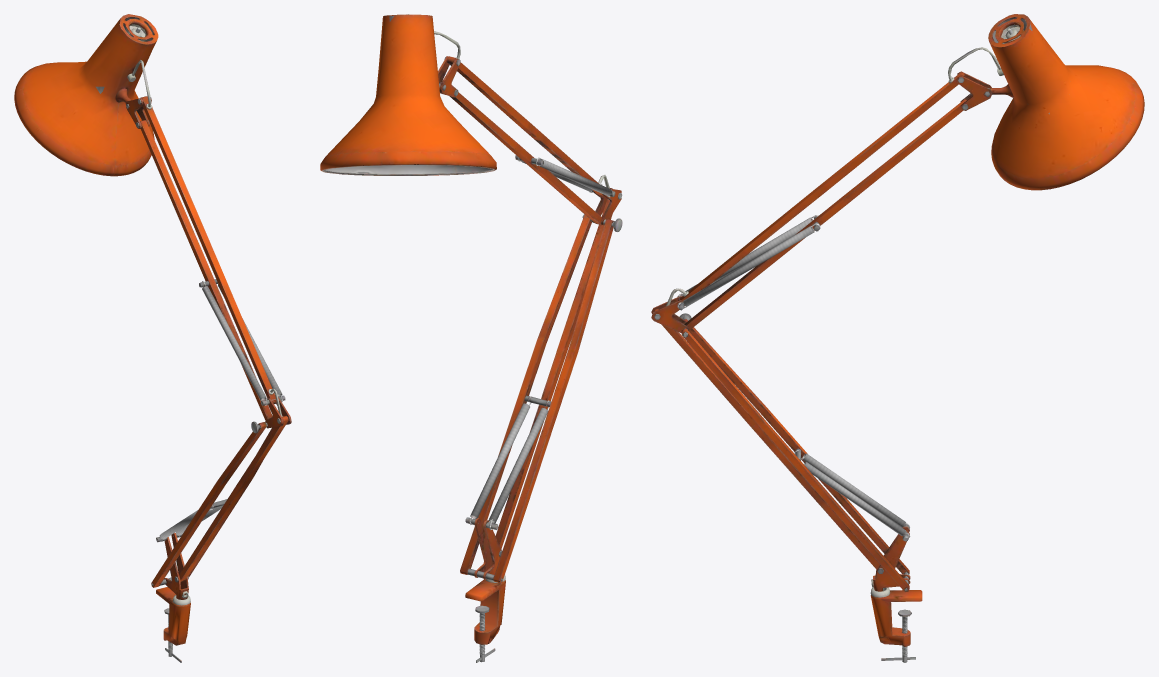
The model's file is desk_lamp.glb.
3 renders of one model, left to right at view 1: azimuth 30°, elevation 25°; view 2: azimuth 150°, elevation 25°; view 3: azimuth 270°, elevation 25°, orthographic. The views are drawn at different scales.
Visible parts, largest first — view 1: desk_lamp_arm_01; view 2: desk_lamp_arm_01; view 3: desk_lamp_arm_01.
Part boxes in pixels (<box>): desk_lamp_arm_01: <box>14,14,291,662</box>; desk_lamp_arm_01: <box>320,14,622,662</box>; desk_lamp_arm_01: <box>651,14,1144,662</box>.
Size of the model in its own units: 0.2017 by 0.8926 by 0.6139.
2 materials, 2 textured.
